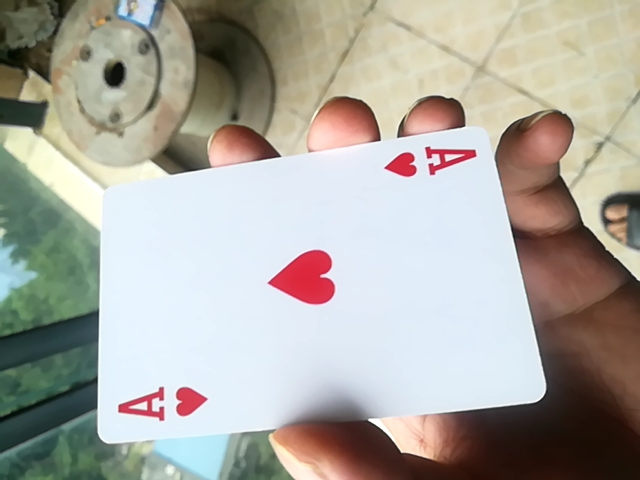hx a: (92, 128, 542, 454)
